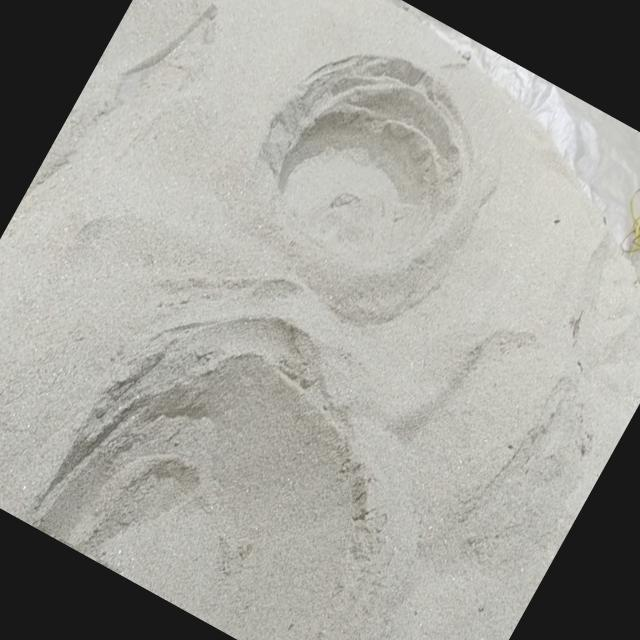C20: (29, 317, 378, 640), (270, 54, 463, 264)
